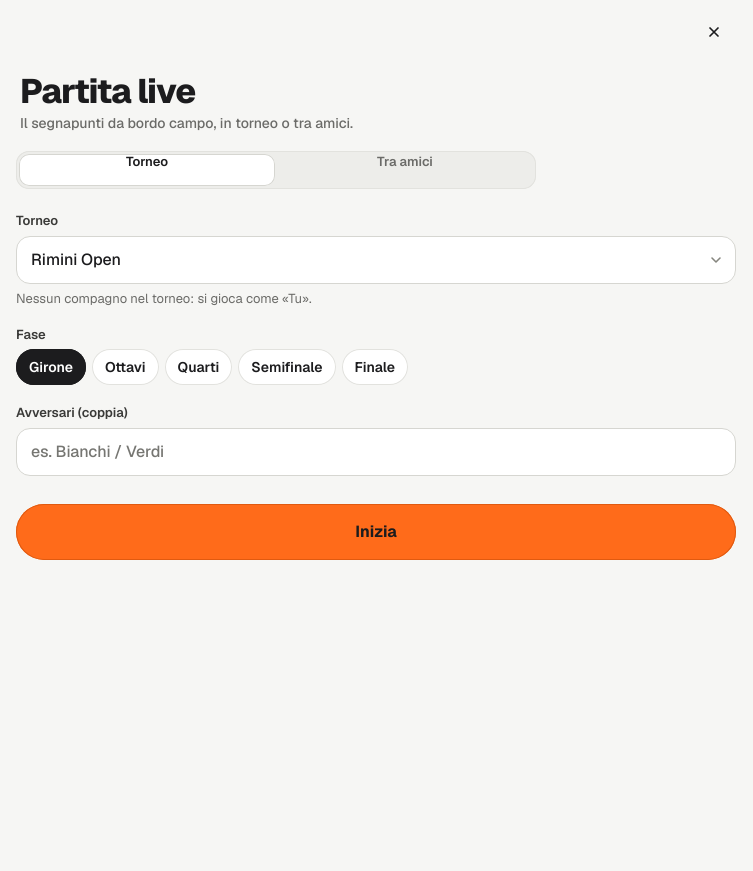
Scenario: PartitaLive — impostazione › senza compagno nel torneo la coppia è «Tu»
Click the button "Inizia".
click(376, 532)  # box 16,504 -> 736,560
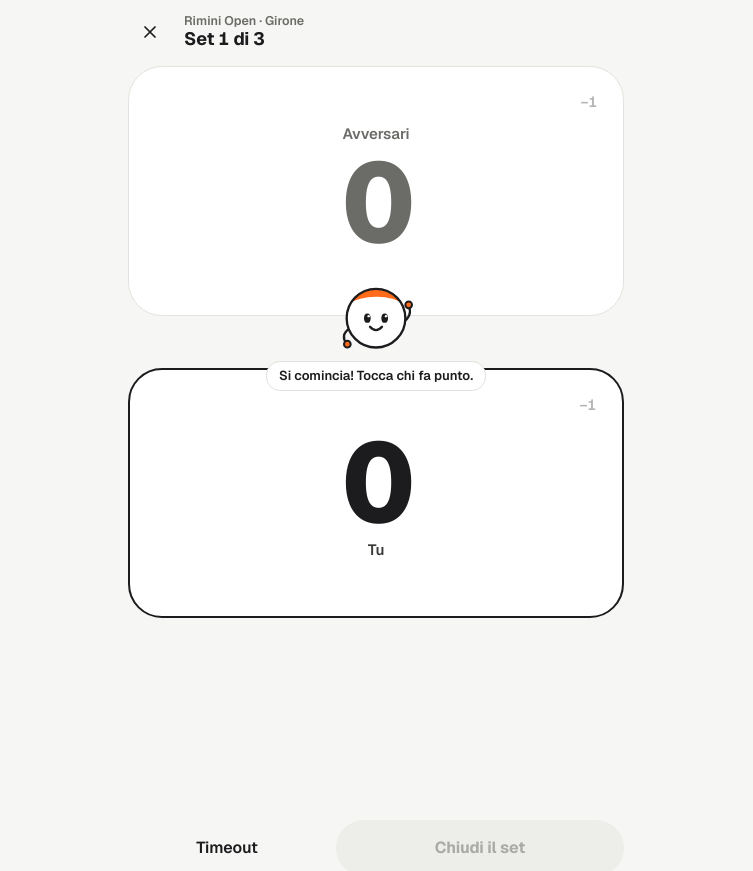
Expected: the text "Tu" is shown, 368,540 -> 384,560
Now the button with aria-label "Punto per gli avversari, ora 0" is shown, box 129,67 -> 623,315
